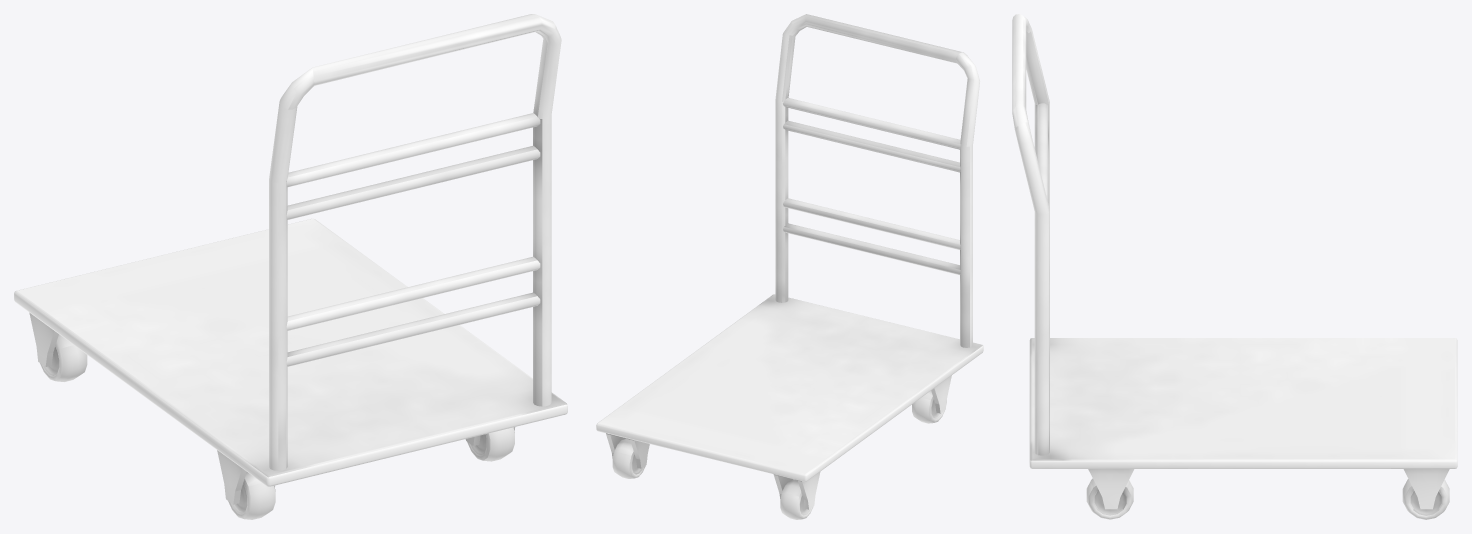
The model's file is Trolley.glb.
3 renders of one model, left to right at view 1: azimuth 30°, elevation 25°; view 2: azimuth 150°, elevation 25°; view 3: azimuth 270°, elevation 25°, orthographic. The views are drawn at different scales.
Parts seen in each view (by area): view 1: Trolley, Trolley.001; view 2: Trolley, Trolley.001; view 3: Trolley, Trolley.001.
Boxes of the visible parts, x1,y1,x2,y2 form: Trolley: (14, 14, 567, 504); Trolley.001: (40, 334, 514, 519); Trolley: (596, 14, 983, 509); Trolley.001: (612, 390, 946, 519); Trolley: (1012, 14, 1457, 509); Trolley.001: (1086, 478, 1449, 519).
Bounding box in the file's own units: 0.6502 × 1 × 0.9912.
Materials: 1 (1 with a texture image).
